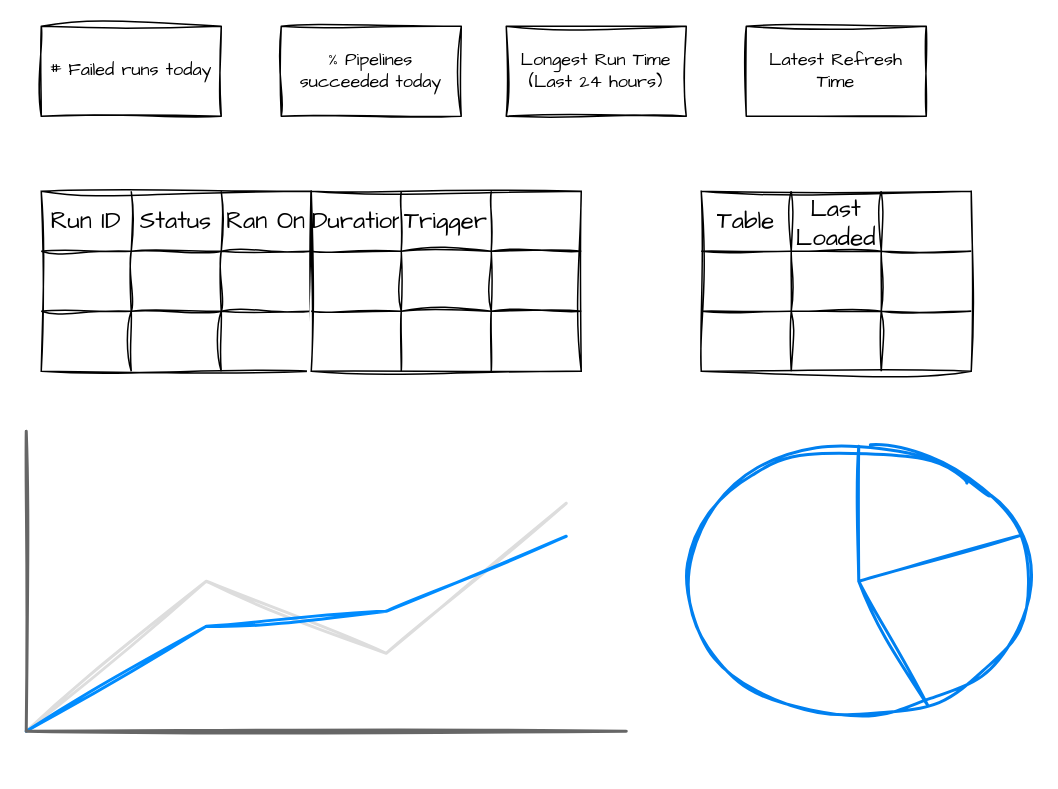
This 1058x789 diagram has some shape labels left out. The centre of each missing label's shape, as x and y in pixels:
"Error Type Breakdown" belongs at point (858, 580).
"Failure Trend for the last 7 days" belongs at point (326, 580).
